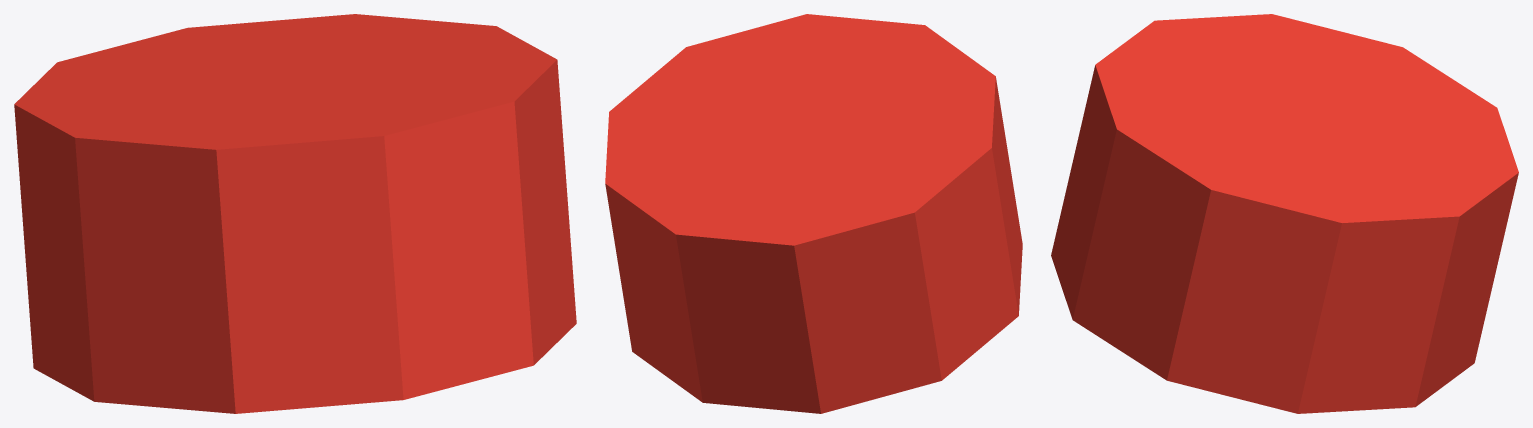
The model's file is group1501622079_lev3.glb.
3 views of the same model, side by side, from view 1: azimuth 30°, elevation 25°; view 2: azimuth 150°, elevation 25°; view 3: azimuth 270°, elevation 25° (orthographic). The views are drawn at different scales.
Visible parts, largest first — view 1: group1501622079_lev3; view 2: group1501622079_lev3; view 3: group1501622079_lev3.
Part boxes in pixels (left/top/right/bottom): group1501622079_lev3: left=14, top=14, right=576, bottom=413; group1501622079_lev3: left=605, top=14, right=1022, bottom=413; group1501622079_lev3: left=1051, top=14, right=1518, bottom=413.
Bounding box in the file's own units: 0.5507 × 0.3817 × 0.5876.
